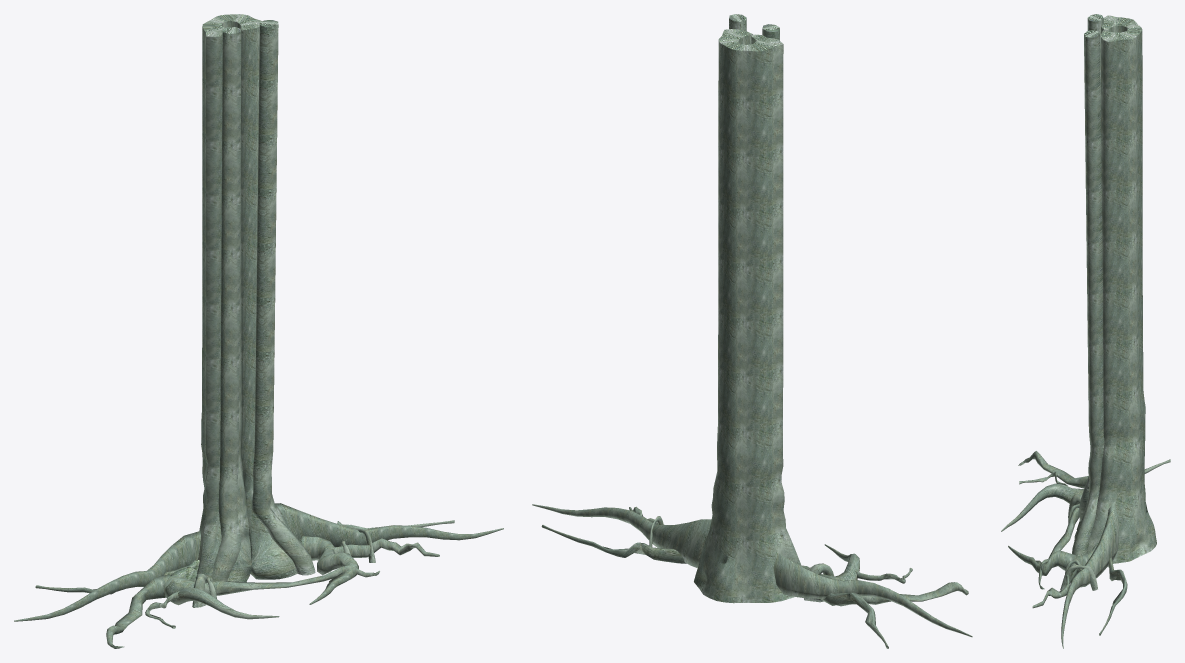
Rendered from portal_tree.FBX.
3 views of the same model, side by side, from view 1: azimuth 30°, elevation 25°; view 2: azimuth 150°, elevation 25°; view 3: azimuth 270°, elevation 25° (orthographic). The views are drawn at different scales.
Parts seen in each view (by area): view 1: Portal_roots, Portal_tree; view 2: Portal_tree, Portal_roots; view 3: Portal_tree, Portal_roots.
Boxes of the visible parts, left/top/right/bottom form: Portal_roots: left=14, top=20, right=503, bottom=648; Portal_tree: left=195, top=14, right=297, bottom=582; Portal_tree: left=694, top=29, right=801, bottom=603; Portal_roots: left=532, top=14, right=972, bottom=648; Portal_tree: left=1074, top=15, right=1156, bottom=563; Portal_roots: left=1001, top=14, right=1170, bottom=648.
Size of the model in its own units: 1704 by 1951 by 574.
